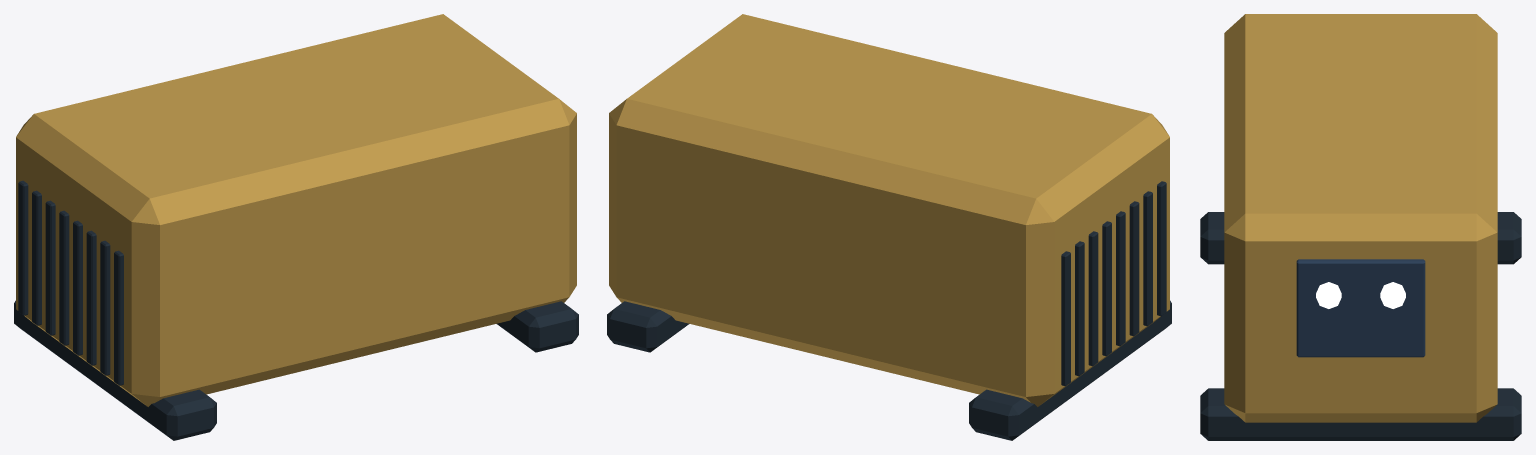
Rendered from objects-generator.lod0.glb.
The picture shows the model from 3 angles, left to right: view 1: azimuth 30°, elevation 25°; view 2: azimuth 150°, elevation 25°; view 3: azimuth 270°, elevation 25°; orthographic projection.
Visible parts, largest first — view 1: objects-generator__body; view 2: objects-generator__body; view 3: objects-generator__body.
Part boxes in pixels (x1,y1,x2,y2): objects-generator__body: (14,14,578,440); objects-generator__body: (607,14,1171,440); objects-generator__body: (1200,14,1521,440).
Size of the model in its own units: 1.68 by 0.79 by 1.
